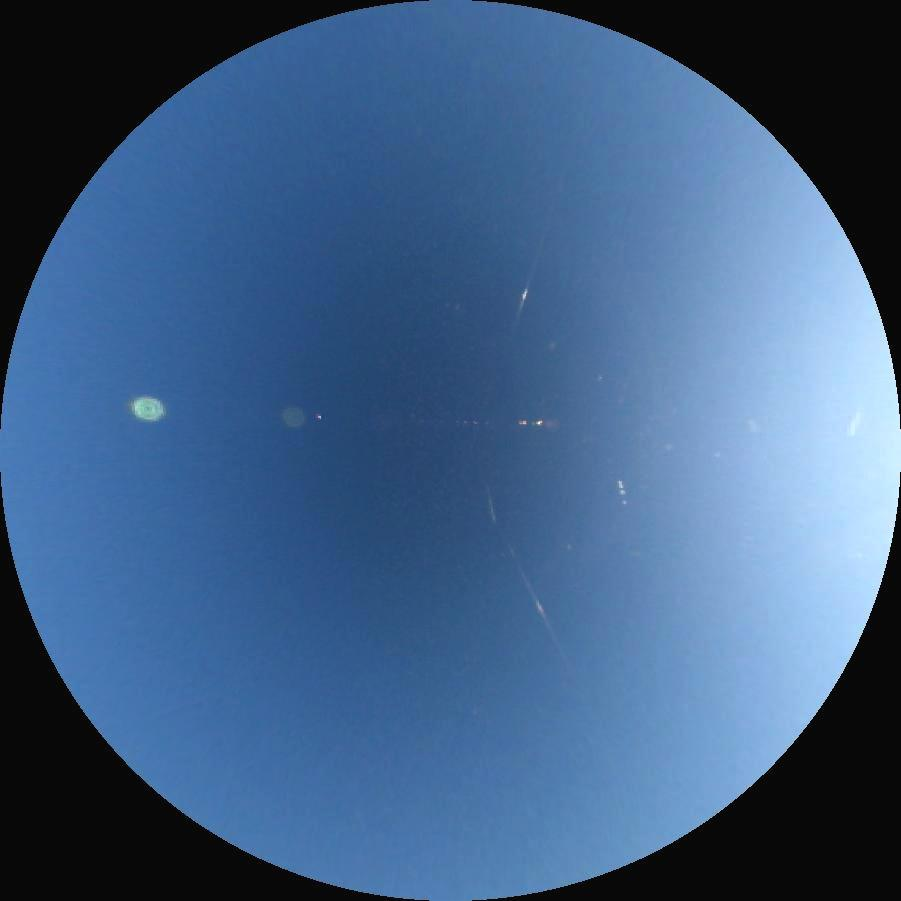contrail young: (843, 380, 877, 440)
parasite: (478, 486, 574, 674), (508, 203, 554, 342)
